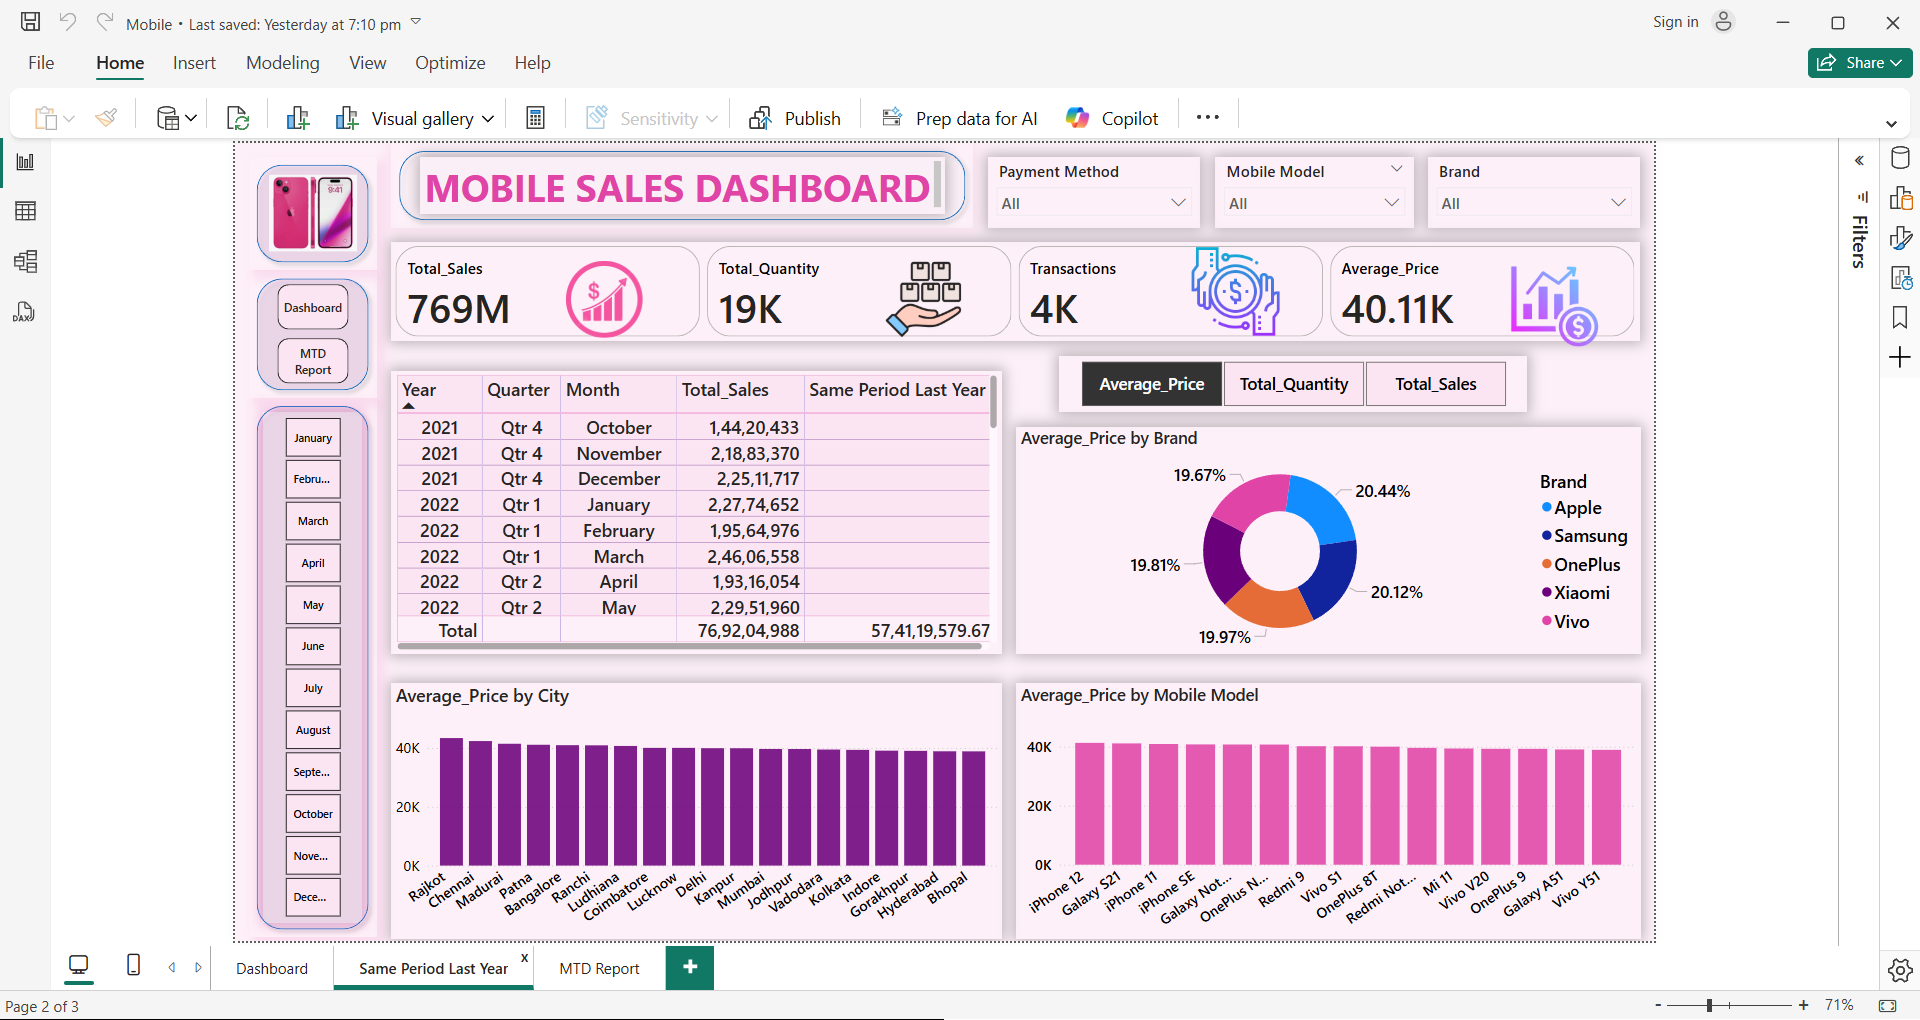

The dashboard page shown, as its layout file describes it:
{"tool":"powerbi","page":{"name":"Same Period Last Year","canvas":[1600,900],"ordinal":2},"visuals":[{"type":"shape","box":[16,16,144,128],"z":0,"group":"g1"},{"type":"cardVisual","fields":{"Data":["Sales_Data.Total_Sales","Sales_Data.Total_Quantity","Sales_Data.Transactions","Sales_Data.Average_Price"]},"box":[176,112,1408,112],"z":0},{"type":"shape","box":[176,0,656,96],"z":1000},{"type":"shape","box":[16,144,144,144],"z":1000,"group":"g2"},{"type":"textbox","box":[208,16,592,64],"z":2000},{"type":"shape","box":[16,288,144,608],"z":2000,"group":"g3"},{"type":"slicer","fields":{"Values":["Sales_Data.Mobile Model"]},"box":[1104,16,224,80],"z":3000},{"type":"slicer","fields":{"Values":["Custom_Calender.Date.Variation.Date Hierarchy.Month"]},"box":[32,304,112,576],"z":3000,"group":"g3"},{"type":"slicer","fields":{"Values":["Sales_Data.Payment Method"]},"box":[848,16,240,80],"z":4000},{"type":"slicer","fields":{"Values":["Sales_Data.Brand"]},"box":[1344,16,240,80],"z":5000},{"type":"tableEx","fields":{"Values":["Custom_Calender.Date.Variation.Date Hierarchy.Year","Custom_Calender.Date.Variation.Date Hierarchy.Quarter","Custom_Calender.Date.Variation.Date Hierarchy.Month","Sales_Data.Total_Sales","Sales_Data.Same Period Last Year"]},"box":[176,256,688,320],"z":6000},{"type":"slicer","fields":{"Values":["Dynamic Measure.Dynamic Measure"]},"box":[928,240,528,64],"z":7000},{"type":"donutChart","fields":{"Y":["Sales_Data.Average_Price","Sales_Data.Total_Quantity","Sales_Data.Total_Sales"],"Category":["Sales_Data.Brand"]},"box":[880,320,704,256],"z":8000},{"type":"columnChart","fields":{"Y":["Sales_Data.Average_Price","Sales_Data.Total_Quantity","Sales_Data.Total_Sales"],"Category":["Sales_Data.Mobile Model"]},"box":[880,608,704,288],"z":9000},{"type":"columnChart","fields":{"Y":["Sales_Data.Average_Price","Sales_Data.Total_Quantity","Sales_Data.Total_Sales"],"Category":["Sales_Data.City"]},"box":[176,608,688,288],"z":10000},{"type":"image","box":[352,128,128,96],"z":11000},{"type":"pageNavigator","box":[48,160,80,112],"z":11000,"group":"g2"},{"type":"image","box":[720,128,112,96],"z":12000},{"type":"image","box":[1040,112,176,112],"z":13000},{"type":"image","box":[1408,128,160,112],"z":14000},{"type":"group","id":"g1","title":"Group 1","box":[0,16,176,128],"z":15000},{"type":"image","box":[0,32,176,96],"z":16000,"group":"g1"},{"type":"group","id":"g2","title":"Group 2","box":[16,144,144,144],"z":16000},{"type":"group","id":"g3","title":"Group 3","box":[16,288,144,608],"z":17000}]}

Visuals, with their boxes on the page's 1600x900 design canvas (x1, y1, x2, y2). These are canvas units, not pixel positions in the 1920x1020 screenshot, which may show the page scaled, cropped or inside an application window:
shape: pyautogui.locateOnScreen(16, 16, 160, 144)
cardVisual - Sales_Data.Total_Sales x Sales_Data.Total_Quantity: pyautogui.locateOnScreen(176, 112, 1584, 224)
shape: pyautogui.locateOnScreen(176, 0, 832, 96)
shape: pyautogui.locateOnScreen(16, 144, 160, 288)
textbox: pyautogui.locateOnScreen(208, 16, 800, 80)
shape: pyautogui.locateOnScreen(16, 288, 160, 896)
slicer - Sales_Data.Mobile Model: pyautogui.locateOnScreen(1104, 16, 1328, 96)
slicer - Custom_Calender.Date.Variation.Date Hierarchy.Month: pyautogui.locateOnScreen(32, 304, 144, 880)
slicer - Sales_Data.Payment Method: pyautogui.locateOnScreen(848, 16, 1088, 96)
slicer - Sales_Data.Brand: pyautogui.locateOnScreen(1344, 16, 1584, 96)
tableEx - Custom_Calender.Date.Variation.Date Hierarchy.Year x Custom_Calender.Date.Variation.Date Hierarchy.Quarter: pyautogui.locateOnScreen(176, 256, 864, 576)
slicer - Dynamic Measure.Dynamic Measure: pyautogui.locateOnScreen(928, 240, 1456, 304)
donutChart - Sales_Data.Average_Price x Sales_Data.Total_Quantity: pyautogui.locateOnScreen(880, 320, 1584, 576)
columnChart - Sales_Data.Average_Price x Sales_Data.Total_Quantity: pyautogui.locateOnScreen(880, 608, 1584, 896)
columnChart - Sales_Data.Average_Price x Sales_Data.Total_Quantity: pyautogui.locateOnScreen(176, 608, 864, 896)
image: pyautogui.locateOnScreen(352, 128, 480, 224)
pageNavigator: pyautogui.locateOnScreen(48, 160, 128, 272)
image: pyautogui.locateOnScreen(720, 128, 832, 224)
image: pyautogui.locateOnScreen(1040, 112, 1216, 224)
image: pyautogui.locateOnScreen(1408, 128, 1568, 240)
"Group 1" group: pyautogui.locateOnScreen(0, 16, 176, 144)
image: pyautogui.locateOnScreen(0, 32, 176, 128)
"Group 2" group: pyautogui.locateOnScreen(16, 144, 160, 288)
"Group 3" group: pyautogui.locateOnScreen(16, 288, 160, 896)
